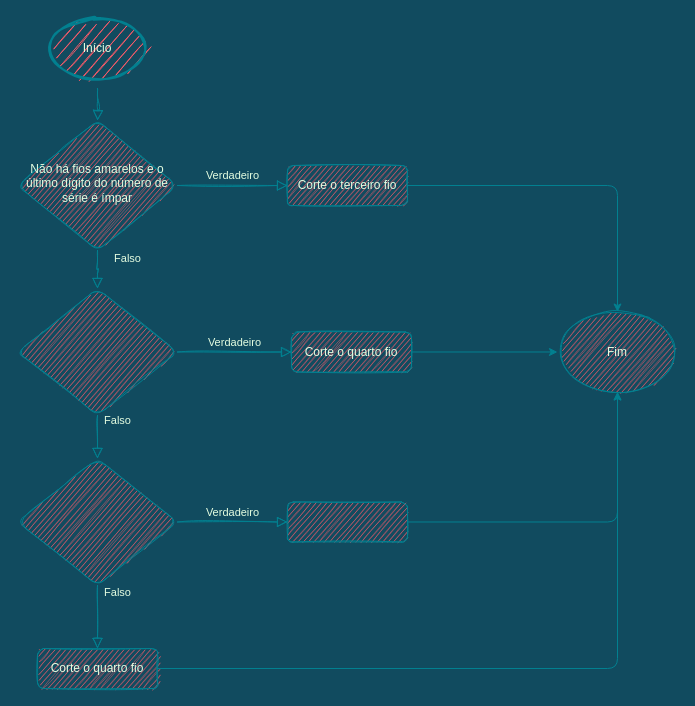
Image size: 695x706. Some labels were removed from this diagram. The centre of each missing label's shape, as x and y in pixels:
"Corte o último fio" belongs at point 347,521.
"Há exatamente um fio amarelo e mais de um fio branco" belongs at point 97,352.
"Não tem fios vermelhos" belongs at point 97,522.
